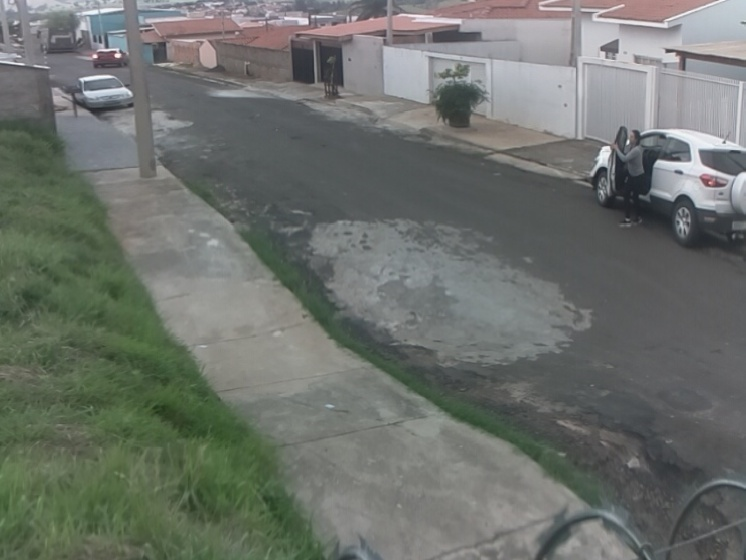person: (610, 129, 653, 233)
